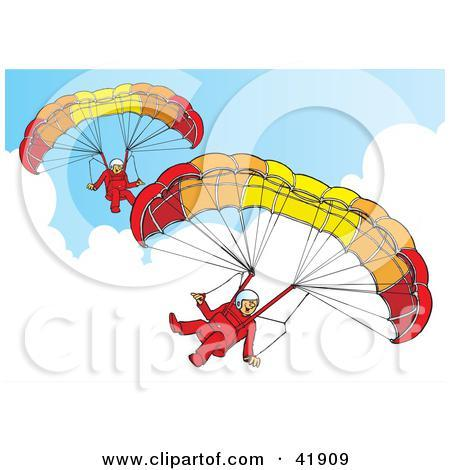person: (164, 285, 266, 369), (85, 158, 145, 214)
